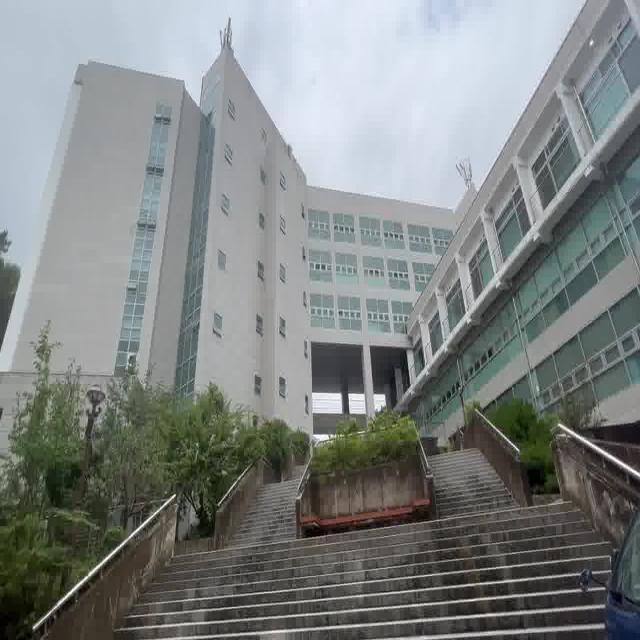building: (31, 46, 432, 380)
